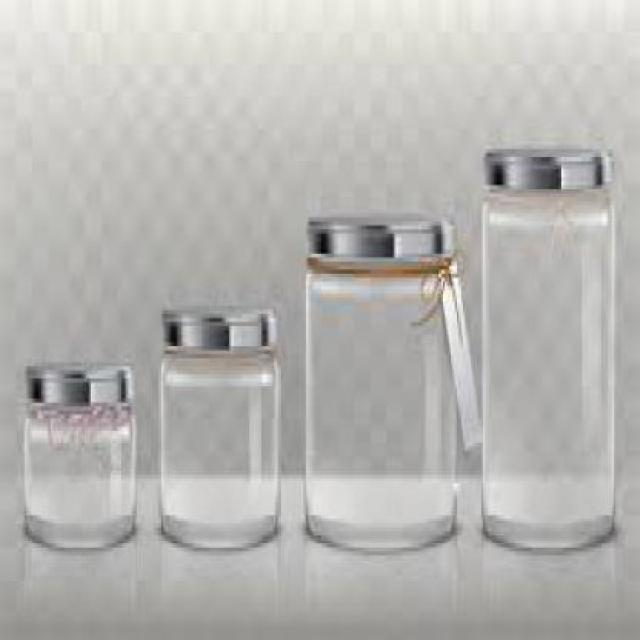kaca: (478, 186, 614, 552), (302, 257, 456, 548), (155, 346, 280, 540), (20, 398, 135, 548)
